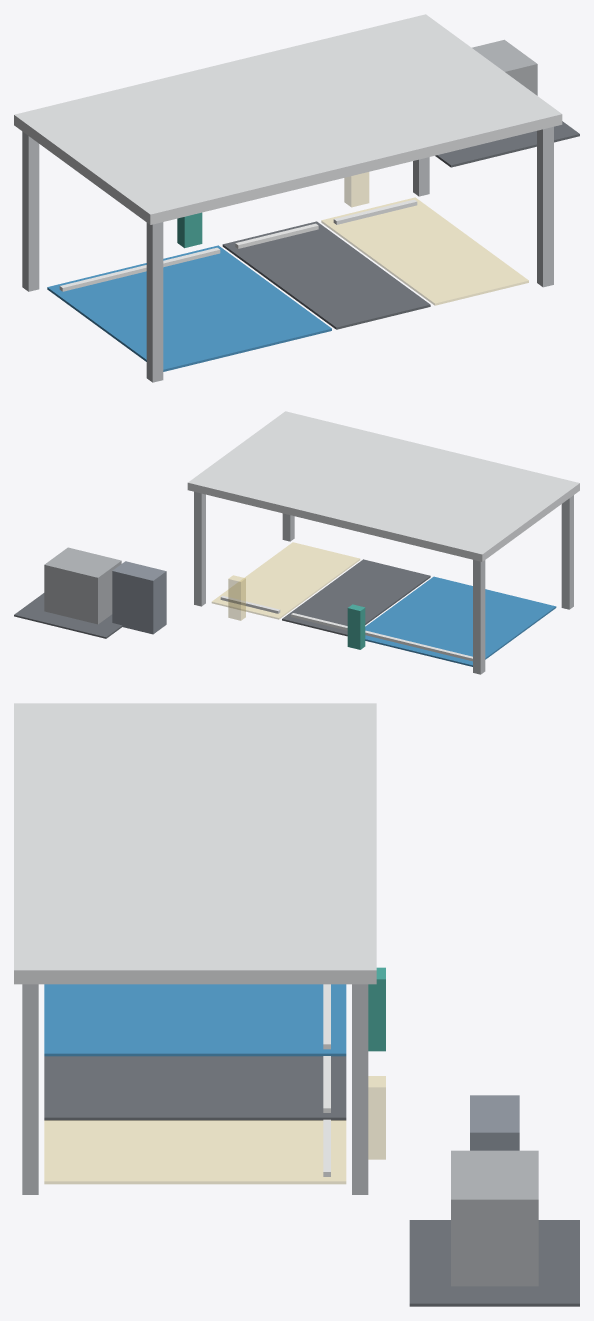
The model's file is PWC001.glb.
3 views of the same model, one above another, from view 1: azimuth 30°, elevation 25°; view 2: azimuth 150°, elevation 25°; view 3: azimuth 270°, elevation 25° (orthographic). The views are drawn at different scales.
Parts seen in each view (by area): view 1: PWC001_evse_build; view 2: PWC001_evse_build; view 3: PWC001_evse_build.
Part boxes in pixels (<box>): PWC001_evse_build: <box>14,14,579,382</box>; PWC001_evse_build: <box>14,411,579,674</box>; PWC001_evse_build: <box>14,703,579,1306</box>.
Size of the model in its own units: 16.15 by 4.58 by 10.3.
